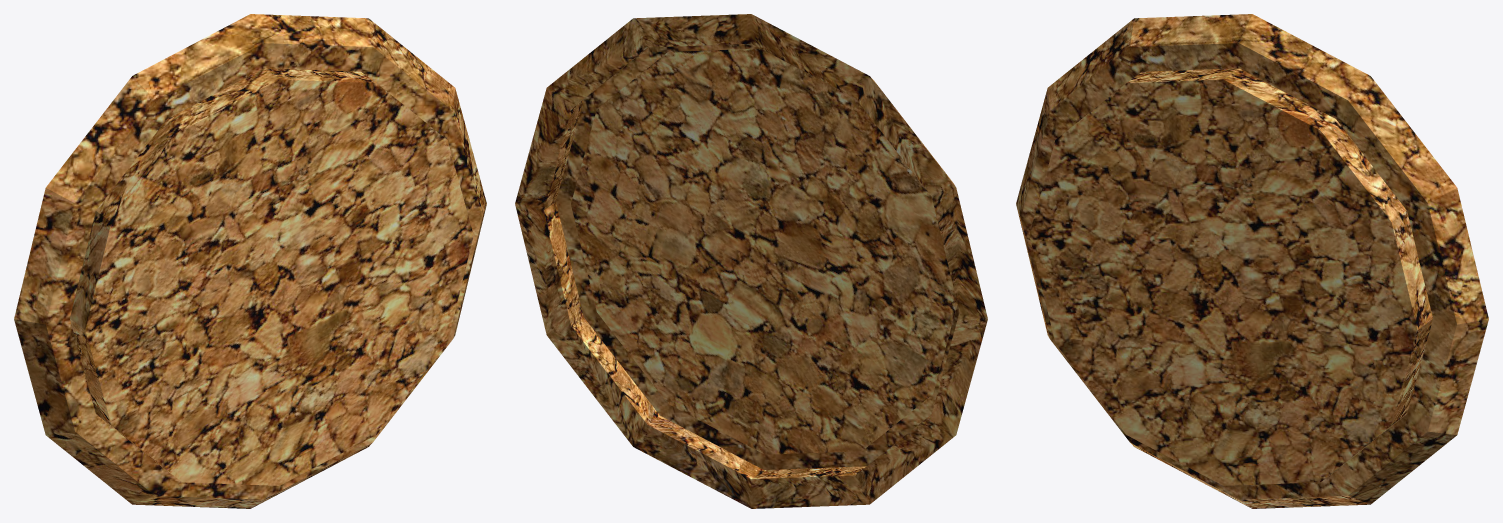
The model's file is CorkToster.fbx.
3 views of the same model, side by side, from view 1: azimuth 30°, elevation 25°; view 2: azimuth 150°, elevation 25°; view 3: azimuth 330°, elevation 25° (orthographic).
Parts seen in each view (by area): view 1: Circle; view 2: Circle; view 3: Circle.
Boxes of the visible parts, box(x1,y1,x2,y2) form: Circle: box(14, 14, 486, 508); Circle: box(515, 14, 987, 508); Circle: box(1016, 14, 1488, 508).
Size of the model in its own units: 244 by 244 by 25.91.
